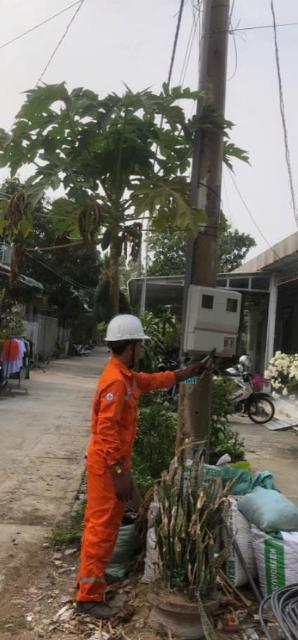gloves: (98, 456, 148, 507), (161, 358, 232, 386)
helmet: (104, 314, 152, 348)
shoes: (74, 590, 135, 626), (61, 568, 118, 601)
